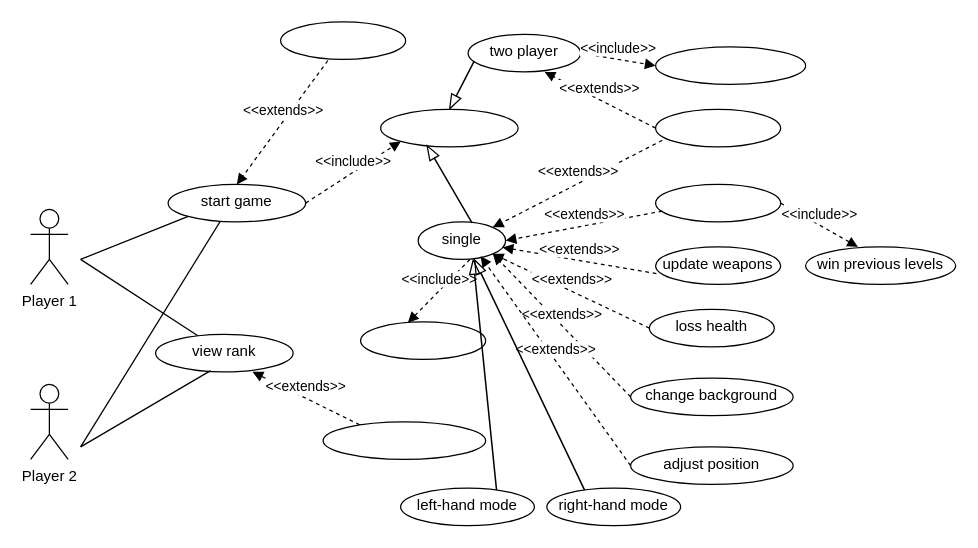
This 978x548 diagram has some shape labels left out. Here are the shapes that lost their labels. From the top down, the centre of each, then its label:
point 342,40: instruction
point 730,65: cooperative attach
point 448,127: select mode
point 717,127: pause game
point 717,202: boss fight
point 422,340: input username
point 404,440: view history scores
